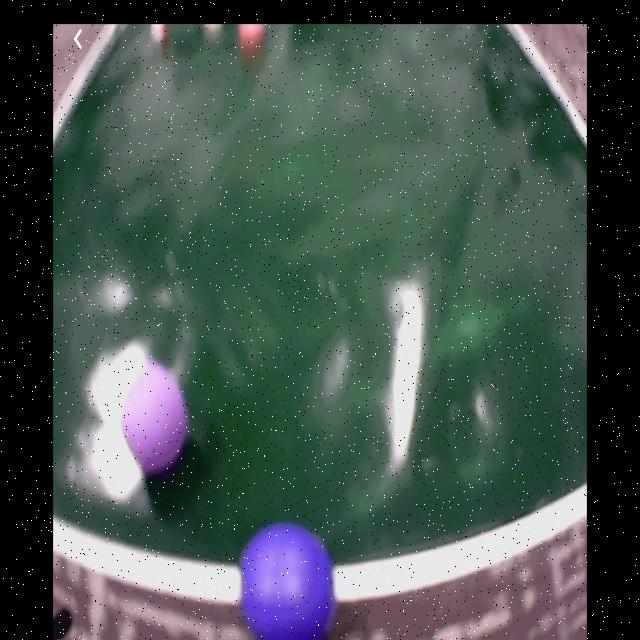ball: (238, 521, 337, 640), (125, 363, 189, 476)
